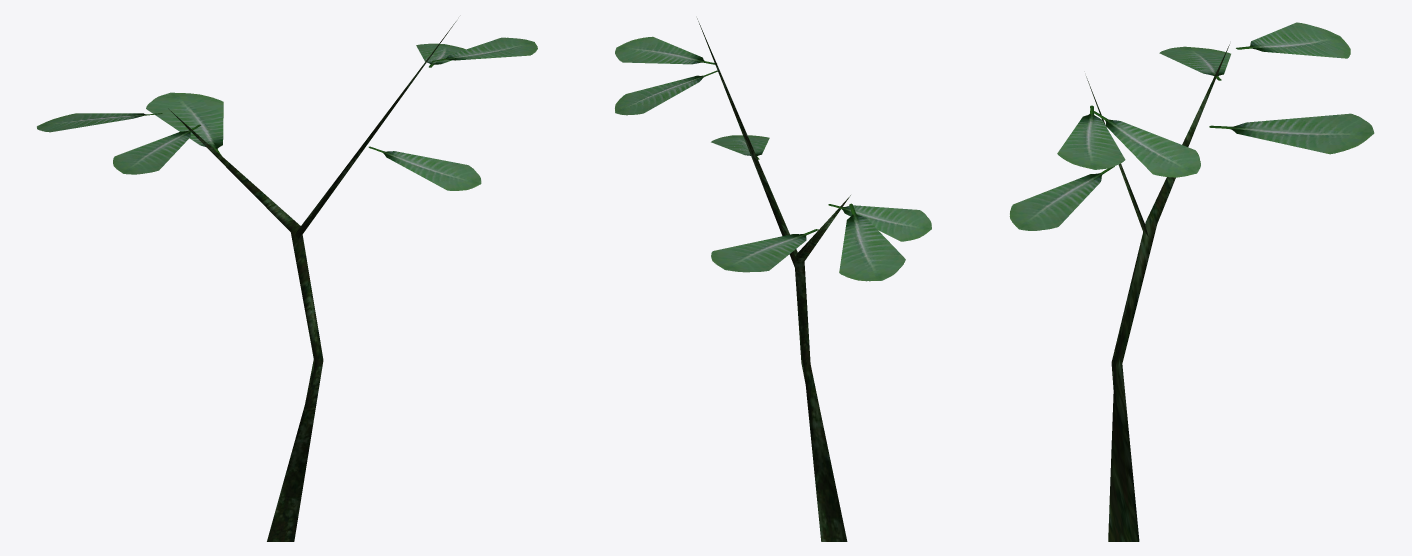
The model's file is leaf_forestsprout_a2_l2.fbx.
The picture shows the model from 3 angles, left to right: view 1: azimuth 30°, elevation 25°; view 2: azimuth 150°, elevation 25°; view 3: azimuth 270°, elevation 25°; orthographic projection. The views are drawn at different scales.
Parts seen in each view (by area): view 1: mesh_node; view 2: mesh_node; view 3: mesh_node.
Boxes of the visible parts, x1,y1,x2,y2 form: mesh_node: (37, 21, 537, 541); mesh_node: (615, 18, 931, 541); mesh_node: (1009, 22, 1374, 541).
Bounding box in the file's own units: 0.594 × 0.6589 × 0.4495.
1 material, 1 textured.
